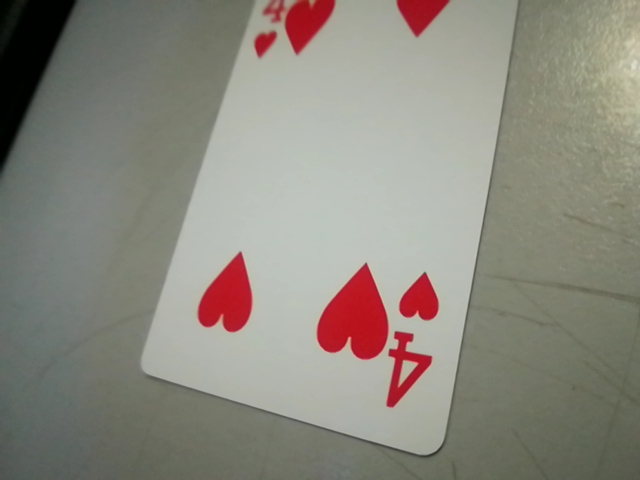hx 4: (379, 259, 454, 415)
